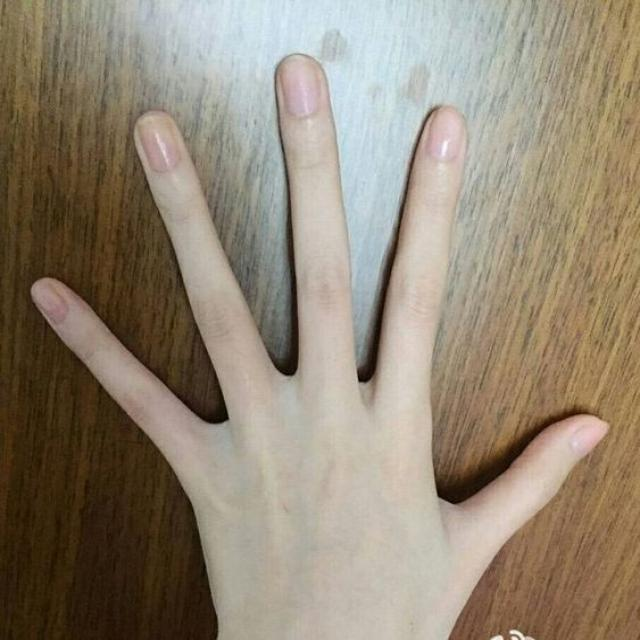Fingernail: (280, 55, 319, 118), (139, 116, 181, 172), (427, 109, 465, 163), (32, 281, 68, 326), (570, 423, 609, 459)
